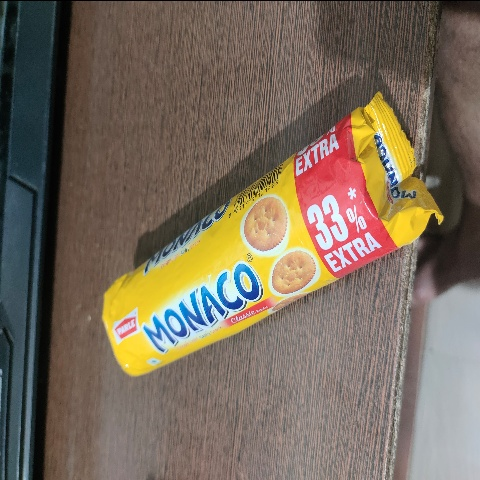monaco: (88, 74, 434, 393)
